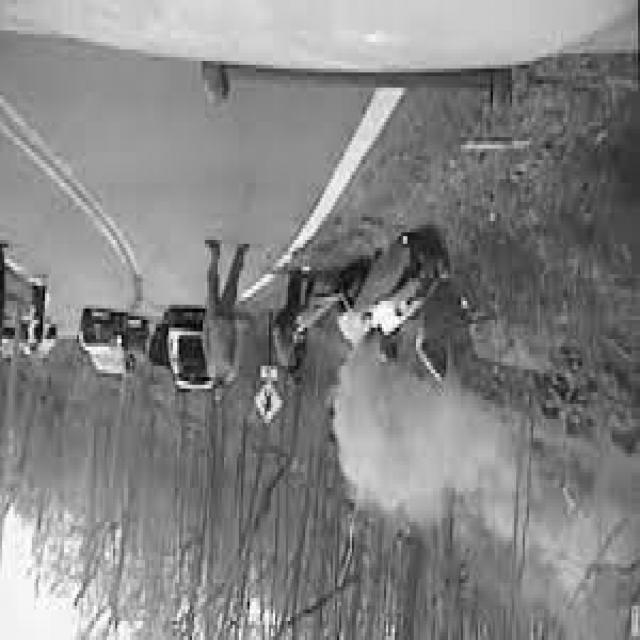severe: (308, 228, 456, 366)
